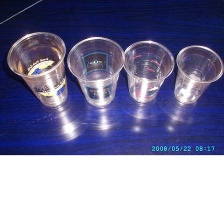glass: (4, 29, 75, 111), (62, 32, 127, 111), (120, 38, 176, 110), (173, 42, 224, 109)
